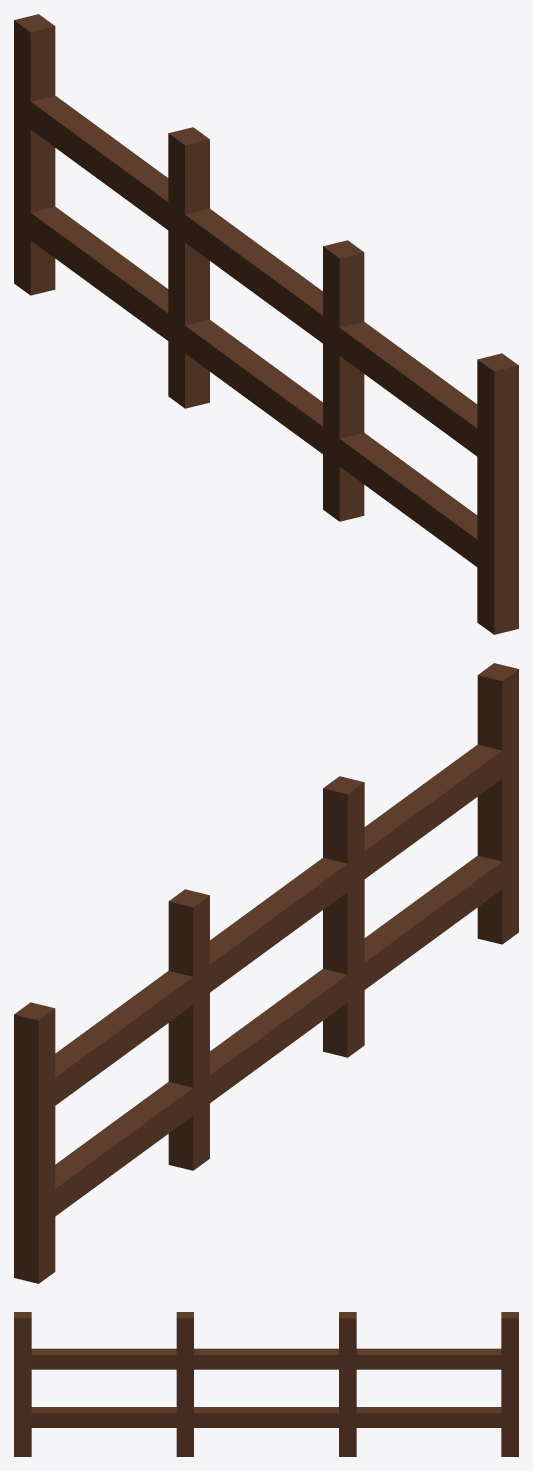
The model's file is Staccionata 4 .fbx.
The picture shows the model from 3 angles, top to bottom: view 1: azimuth 30°, elevation 25°; view 2: azimuth 150°, elevation 25°; view 3: azimuth 270°, elevation 25°; orthographic projection. The views are drawn at different scales.
Parts seen in each view (by area): view 1: Steccato 3; view 2: Steccato 3; view 3: Steccato 3.
Part boxes in pixels (x1=…): Steccato 3: x1=14, y1=14, x2=518, y2=634; Steccato 3: x1=14, y1=663, x2=518, y2=1283; Steccato 3: x1=14, y1=1312, x2=518, y2=1456.
Size of the model in its own units: 18.73 by 189 by 625.
